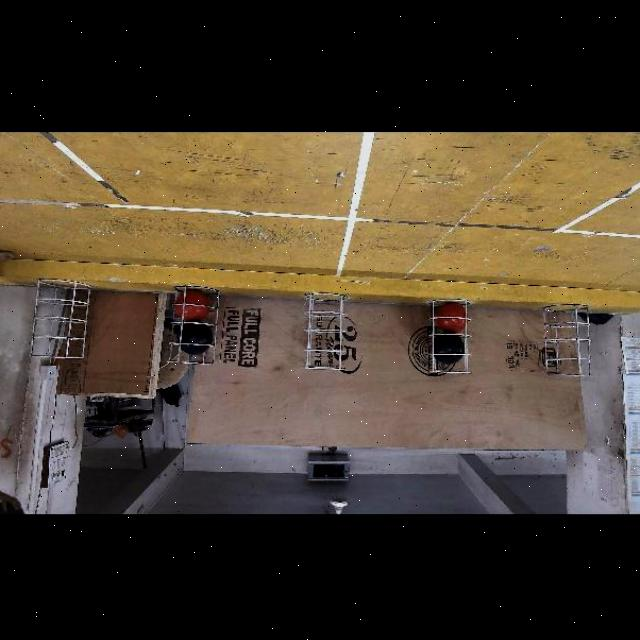P: (179, 323, 211, 353), (431, 335, 463, 361)
R: (435, 302, 469, 334), (174, 292, 210, 320)
S: (24, 278, 94, 364), (538, 303, 594, 382), (166, 286, 220, 366), (428, 302, 477, 382), (303, 292, 345, 370)
